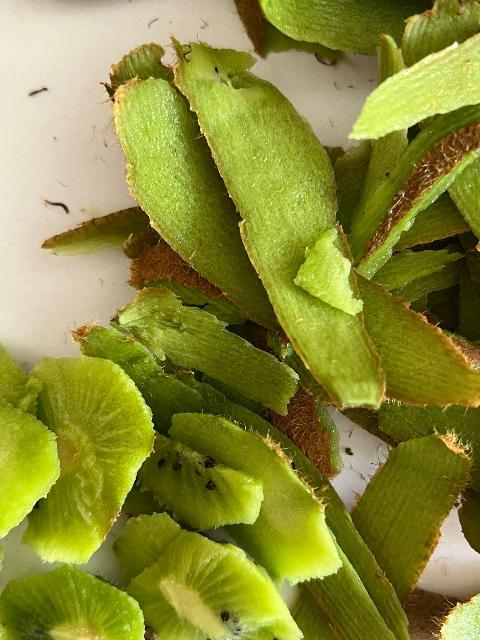Organik: (180, 47, 383, 406), (330, 431, 472, 640), (27, 372, 173, 542), (0, 564, 197, 640), (348, 47, 480, 148), (128, 555, 278, 640), (2, 419, 72, 548), (297, 241, 355, 311)
